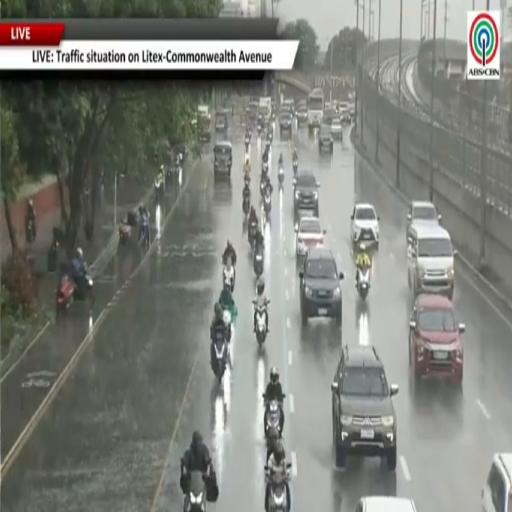bus: (308, 88, 324, 131)
car: (331, 345, 398, 471), (409, 294, 465, 385), (299, 247, 344, 326), (408, 224, 456, 298), (481, 453, 511, 511), (351, 203, 379, 248), (293, 170, 319, 218), (295, 217, 326, 257), (406, 201, 441, 236), (356, 496, 416, 511), (318, 124, 333, 154), (280, 110, 292, 137), (331, 118, 342, 140), (324, 107, 338, 124), (282, 100, 294, 116), (297, 107, 308, 124), (340, 107, 351, 123), (349, 105, 356, 122)
motorcycle: (56, 272, 95, 314), (265, 463, 291, 511), (184, 471, 206, 511), (265, 399, 283, 437), (254, 300, 269, 345), (213, 340, 227, 381), (47, 229, 60, 271), (357, 268, 369, 300), (223, 265, 235, 293), (223, 309, 233, 342), (253, 248, 264, 278), (118, 223, 132, 245), (140, 222, 149, 250), (26, 217, 35, 244), (248, 222, 257, 249), (154, 178, 164, 201), (264, 192, 271, 220), (242, 196, 250, 216), (260, 175, 266, 198), (278, 167, 284, 187), (262, 162, 269, 177), (245, 134, 250, 152), (293, 158, 298, 175), (244, 173, 250, 187), (257, 123, 262, 135)
truck: (197, 105, 211, 141), (259, 98, 271, 122), (198, 105, 209, 116)
